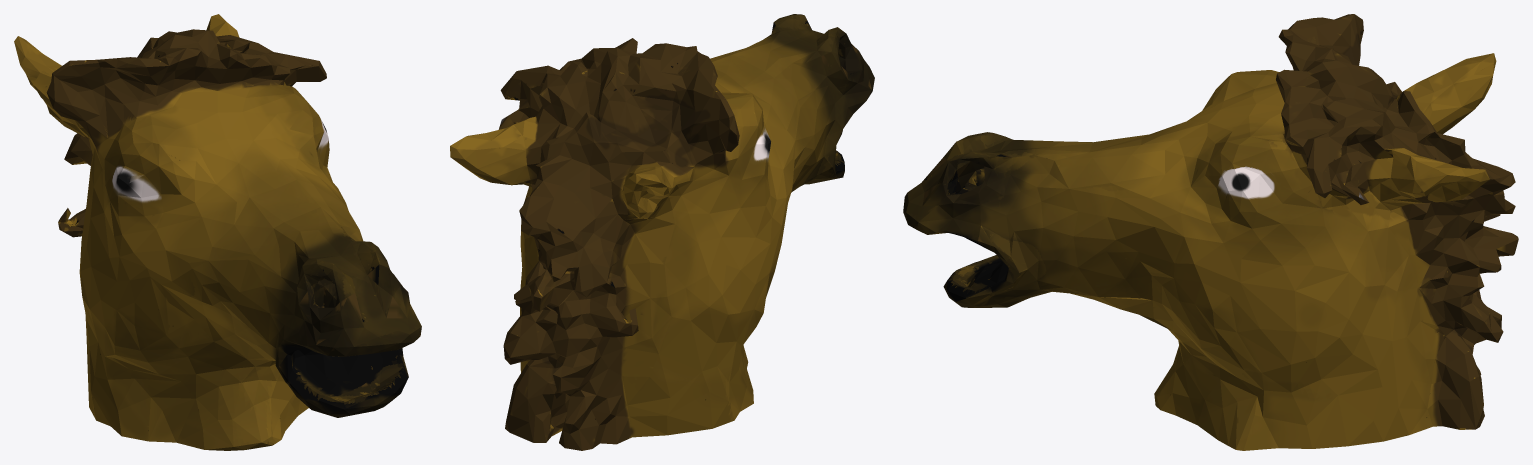
Rendered from HorseMask_WorldItem.fbx.
3 renders of one model, left to right at view 1: azimuth 30°, elevation 25°; view 2: azimuth 150°, elevation 25°; view 3: azimuth 270°, elevation 25°, orthographic. The views are drawn at different scales.
Parts seen in each view (by area): view 1: horse_mask; view 2: horse_mask; view 3: horse_mask.
Boxes of the visible parts, x1,y1,x2,y2 form: horse_mask: (14,14,421,450); horse_mask: (450,14,874,450); horse_mask: (903,14,1518,450).
Size of the model in its own units: 0.1702 by 0.2244 by 0.3446.
